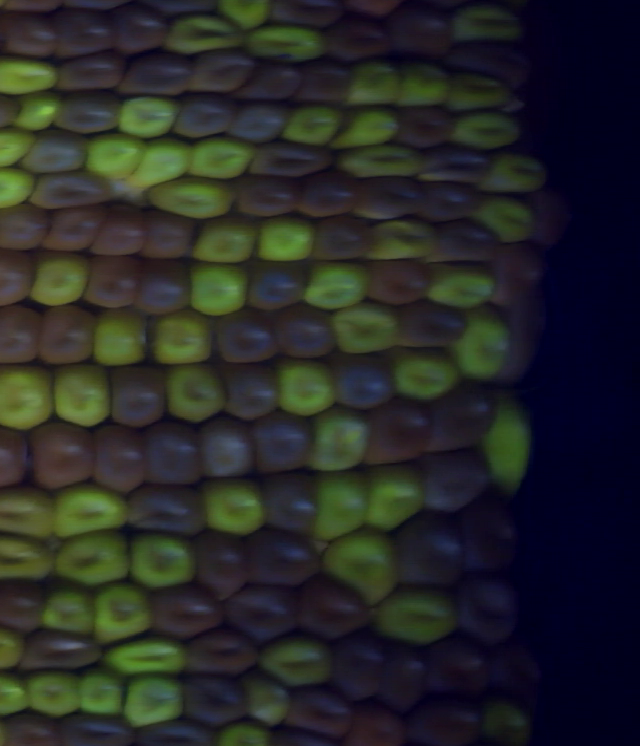fluorescent: (325, 534, 397, 603), (53, 533, 133, 586), (128, 531, 194, 592), (374, 592, 451, 642), (365, 465, 423, 531), (93, 584, 154, 645), (0, 362, 54, 430), (51, 366, 111, 426), (54, 486, 126, 535), (311, 407, 364, 473), (150, 178, 234, 219), (163, 365, 223, 422), (203, 480, 264, 536), (456, 306, 504, 377), (427, 262, 498, 309), (151, 312, 216, 363), (87, 308, 148, 362), (265, 637, 328, 689), (488, 407, 528, 488), (275, 360, 332, 416), (188, 265, 249, 317), (318, 473, 365, 539), (332, 303, 392, 354), (303, 262, 367, 308), (103, 642, 183, 678), (365, 219, 430, 263), (123, 678, 183, 725), (190, 133, 250, 180), (445, 67, 506, 112), (42, 589, 100, 636), (343, 144, 423, 178), (30, 256, 83, 307), (87, 133, 142, 182), (27, 667, 83, 715), (392, 352, 459, 392), (475, 199, 534, 244), (283, 104, 340, 150), (139, 135, 191, 185), (167, 18, 243, 52), (0, 532, 53, 580), (259, 218, 314, 264), (0, 487, 55, 532), (193, 222, 254, 262), (455, 112, 519, 150), (479, 155, 543, 193), (121, 96, 177, 138), (243, 675, 289, 726), (245, 27, 321, 57), (348, 62, 397, 107), (336, 112, 398, 147), (0, 57, 54, 97), (399, 63, 446, 107), (78, 672, 121, 711), (453, 12, 517, 37), (18, 95, 61, 132), (218, 721, 274, 745), (0, 130, 30, 169), (0, 167, 32, 203)
nonfluorescent: (396, 511, 460, 585), (363, 398, 428, 465), (34, 425, 97, 489), (430, 384, 494, 447), (250, 412, 312, 477), (245, 530, 315, 587), (293, 579, 366, 632), (431, 631, 489, 697), (427, 449, 493, 507), (145, 419, 201, 486), (222, 585, 288, 641), (212, 307, 277, 363), (198, 412, 250, 482), (334, 628, 383, 702), (397, 302, 467, 351), (108, 362, 163, 424), (243, 262, 308, 314), (383, 7, 449, 58), (428, 215, 500, 261), (185, 630, 257, 676), (20, 635, 100, 676), (133, 488, 203, 534), (333, 354, 393, 407), (448, 33, 517, 79), (32, 172, 113, 211), (464, 578, 513, 642), (152, 584, 206, 642), (261, 473, 314, 532), (196, 533, 244, 598), (98, 433, 148, 495), (491, 247, 542, 307), (123, 53, 191, 97), (356, 175, 427, 217), (139, 205, 193, 260), (138, 262, 193, 316), (385, 638, 428, 707), (368, 257, 427, 307), (180, 674, 243, 720), (56, 52, 126, 93), (50, 712, 134, 746), (194, 47, 251, 97), (288, 685, 348, 732), (250, 141, 332, 175), (42, 308, 90, 366), (277, 307, 332, 357), (327, 13, 383, 62), (309, 217, 371, 261), (56, 10, 114, 57), (53, 92, 119, 132), (84, 260, 139, 308), (396, 103, 453, 149), (236, 179, 303, 218), (23, 133, 85, 175), (46, 208, 98, 257), (228, 369, 276, 420), (0, 303, 37, 369), (3, 14, 54, 61), (98, 207, 145, 257), (171, 100, 231, 139), (0, 577, 42, 632), (303, 57, 349, 107), (428, 152, 488, 190), (113, 11, 168, 52), (300, 176, 356, 216), (251, 59, 303, 102), (0, 429, 34, 492), (232, 108, 290, 144), (0, 202, 44, 249), (427, 182, 480, 217), (0, 244, 30, 304), (138, 722, 200, 746), (3, 714, 45, 746)
